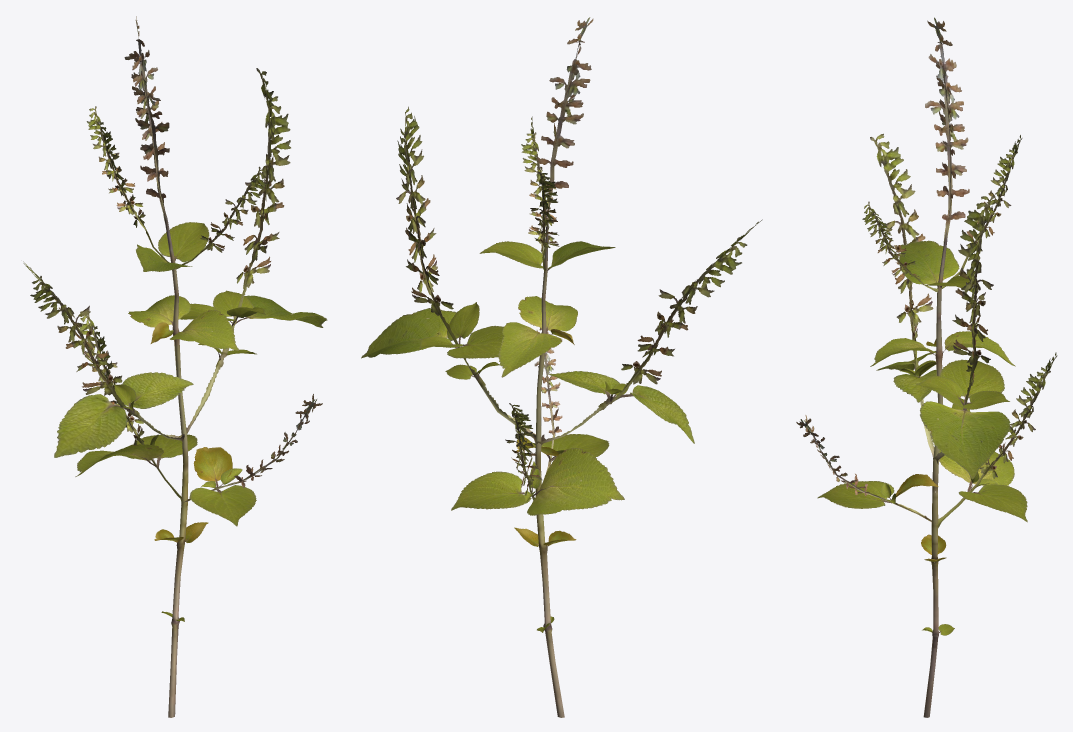
The picture shows the model from 3 angles, left to right: view 1: azimuth 30°, elevation 25°; view 2: azimuth 150°, elevation 25°; view 3: azimuth 270°, elevation 25°; orthographic projection. The views are drawn at different scales.
Visible parts, largest first — view 1: shrub_03__b_lod0; view 2: shrub_03__b_lod0; view 3: shrub_03__b_lod0.
Boxes of the visible parts, <box> form: shrub_03__b_lod0: <box>23,16,327,717</box>; shrub_03__b_lod0: <box>361,17,762,717</box>; shrub_03__b_lod0: <box>796,17,1057,717</box>.
Bounding box in the file's own units: 0.1843 × 0.3525 × 0.1226.
Materials: 1 (1 with a texture image).
